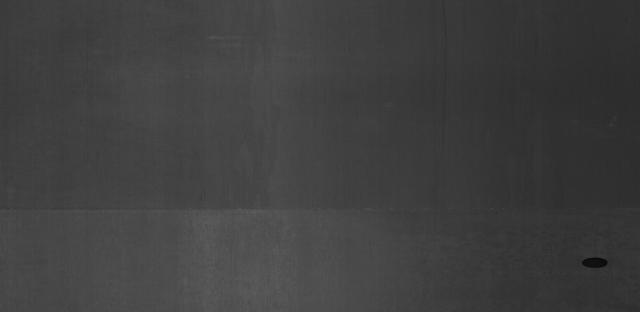punching_hole: (578, 254, 610, 272)
welding_line: (3, 199, 638, 221)
